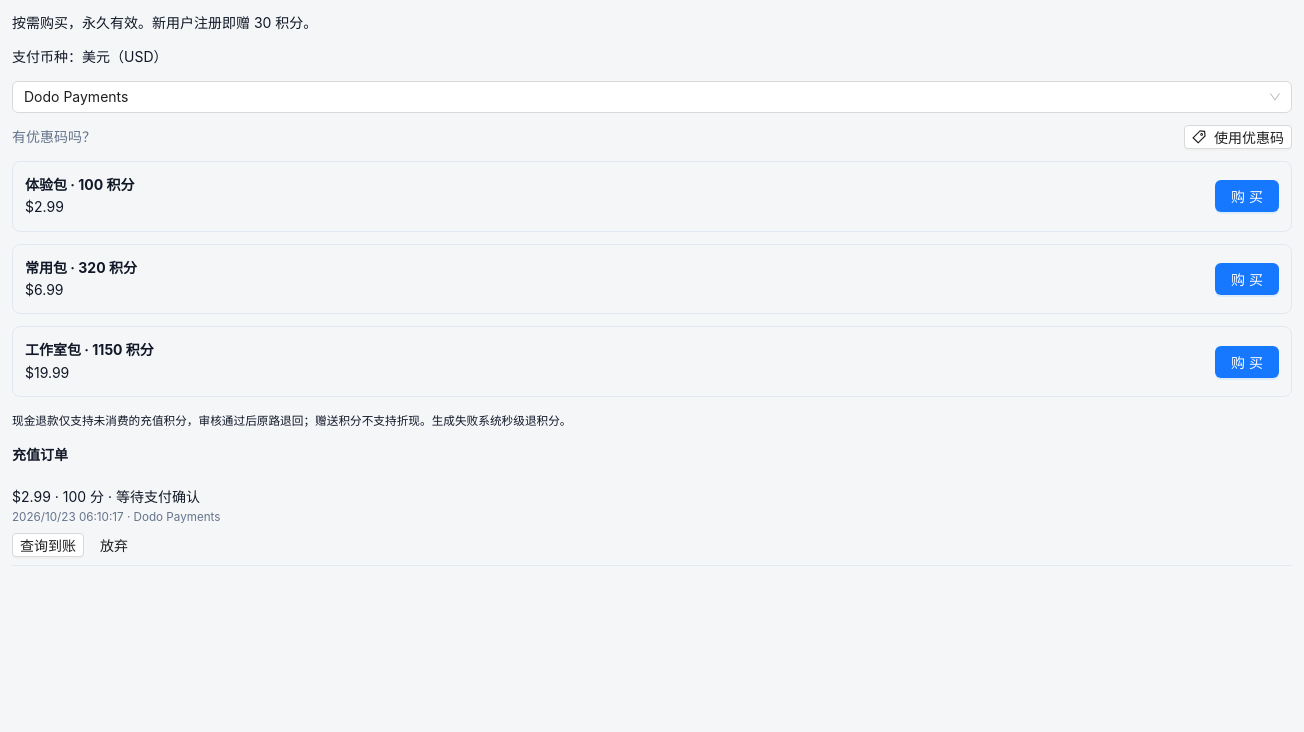
Scenario: 充值订单生命周期与管理 › 点击放弃后将订单折叠到已忽略列表，且支持恢复显示
The image size is (1304, 732).
Expected: the text "充值订单" is shown, [12,446,68,462]
Click the button "放弃". click: x=114, y=545
box: [92,533,136,557]
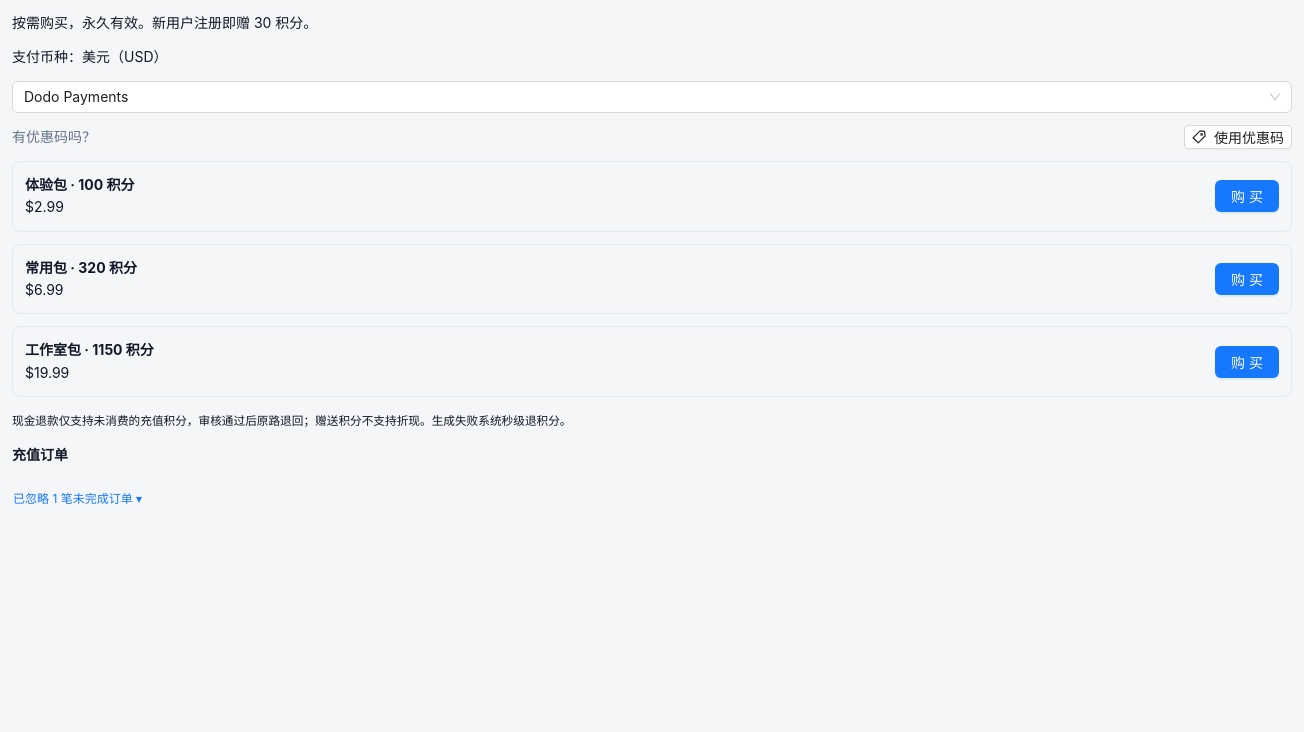
Now the button "查询到账" is gone
Now the text "已忽略 1 笔未完成订单 ▾" is shown, box [13,489,142,506]
Click the button "已忽略 1 笔未完成订单 ▾". click: x=78, y=498
box: [12,486,143,510]
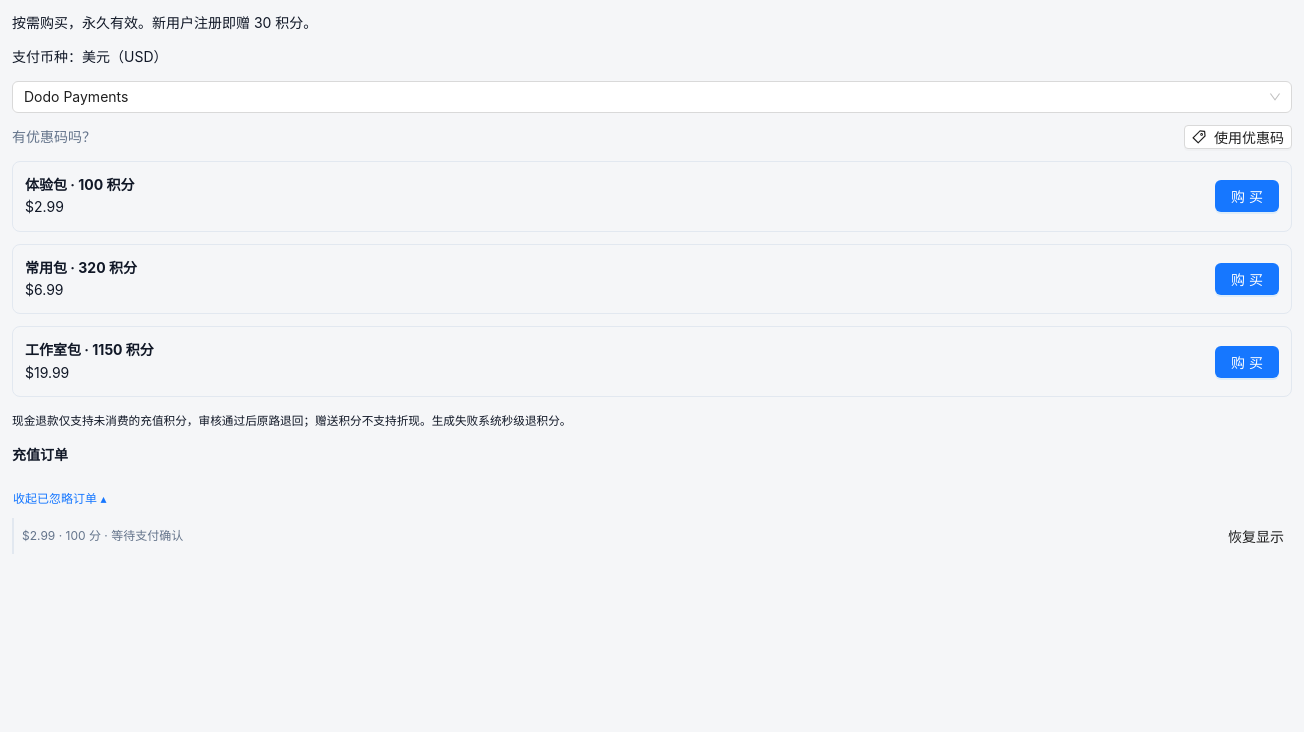
Now the text "收起已忽略订单 ▴" is shown, box [13,489,106,506]
Click the button "恢复显示". click: x=1256, y=536
box: [1220,524,1292,548]
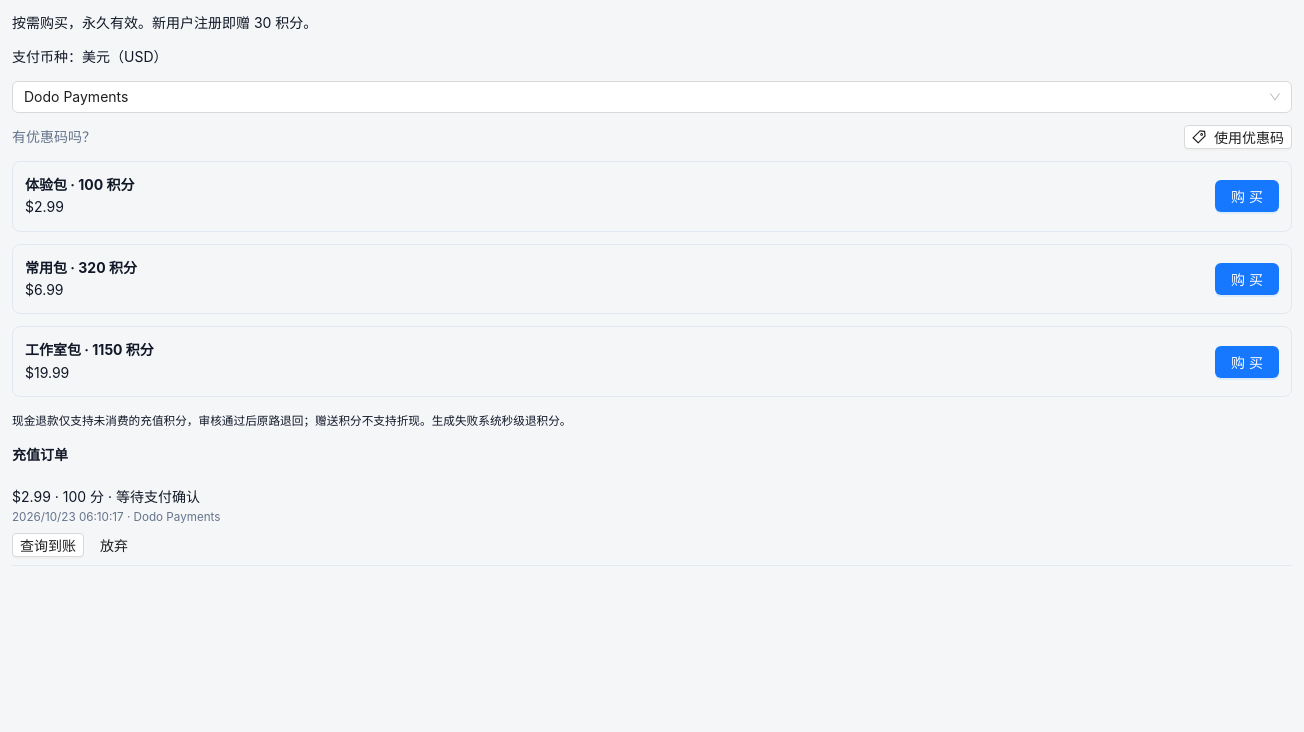
Now the button "查询到账" is shown, box [12,533,84,557]
Now the button "已忽略" is gone
